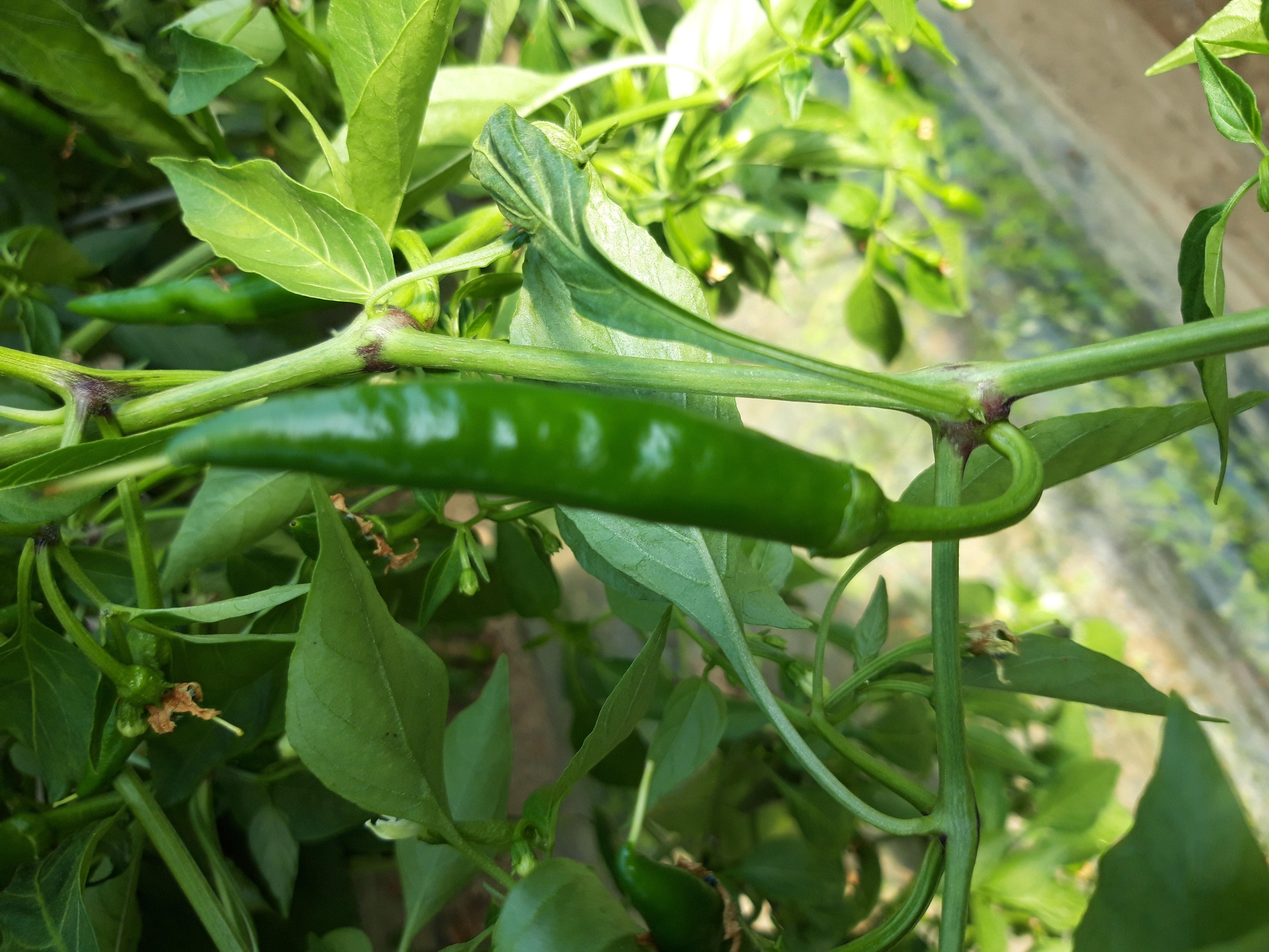Buah Cabai Sehat: (168, 359, 892, 577)
